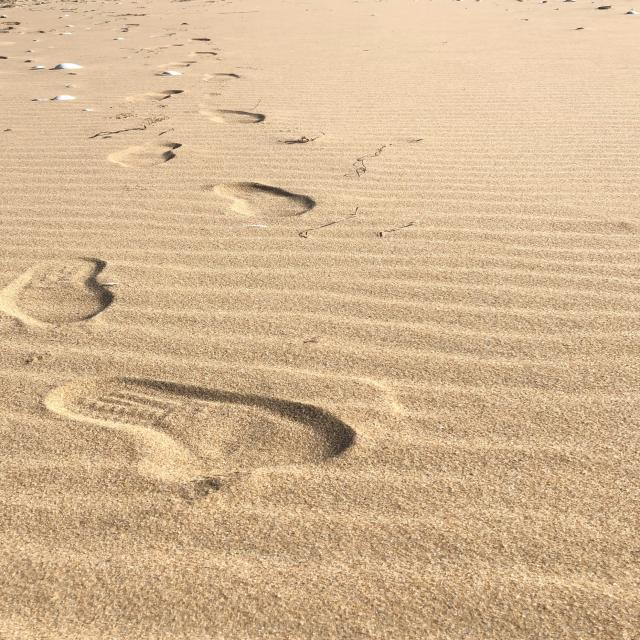human_footprint: (0, 59, 506, 552)
